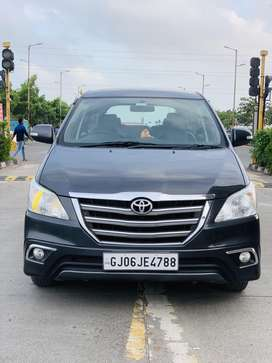GJ06JE4788: (103, 251, 178, 271)
